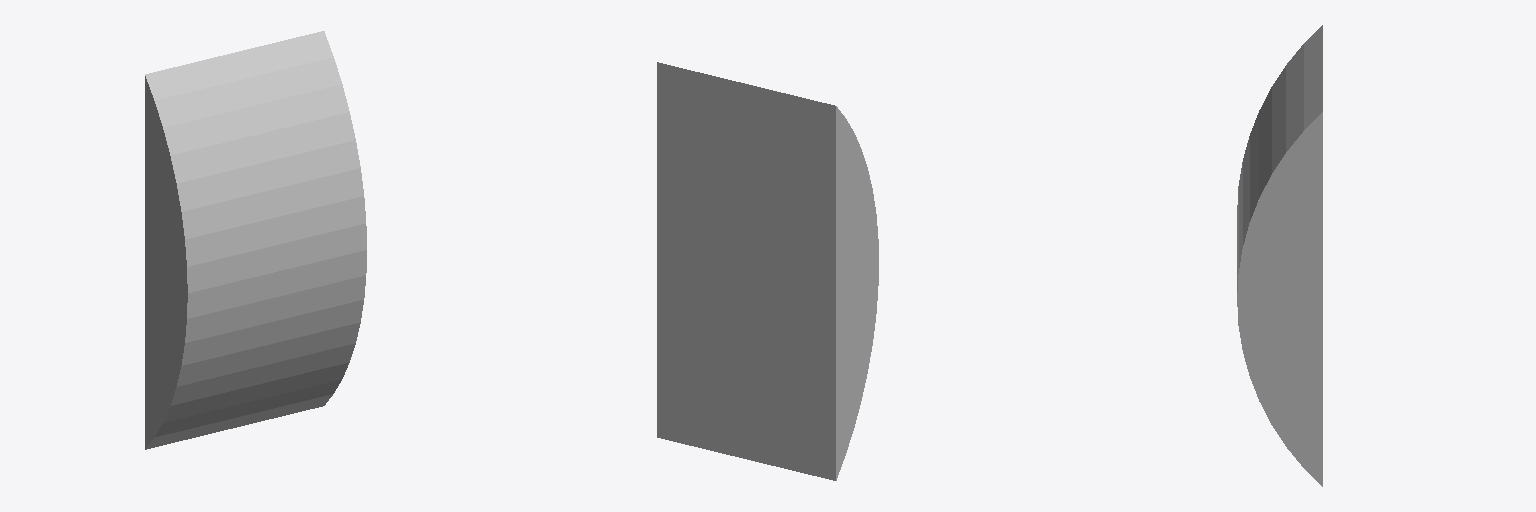
File: fant_cube_rounder_2.obj
The picture shows the model from 3 angles: view 1: azimuth 30°, elevation 25°; view 2: azimuth 150°, elevation 25°; view 3: azimuth 270°, elevation 25°; orthographic projection.
Visible parts, largest first — view 1: fant_cube_rounder_2_Cylinder.001; view 2: fant_cube_rounder_2_Cylinder.001; view 3: fant_cube_rounder_2_Cylinder.001.
Boxes of the visible parts, x1,y1,x2,y2 form: fant_cube_rounder_2_Cylinder.001: [145, 31, 366, 449]; fant_cube_rounder_2_Cylinder.001: [657, 62, 878, 480]; fant_cube_rounder_2_Cylinder.001: [1237, 25, 1322, 486].
Size of the model in its own units: 1 by 2 by 0.4142.